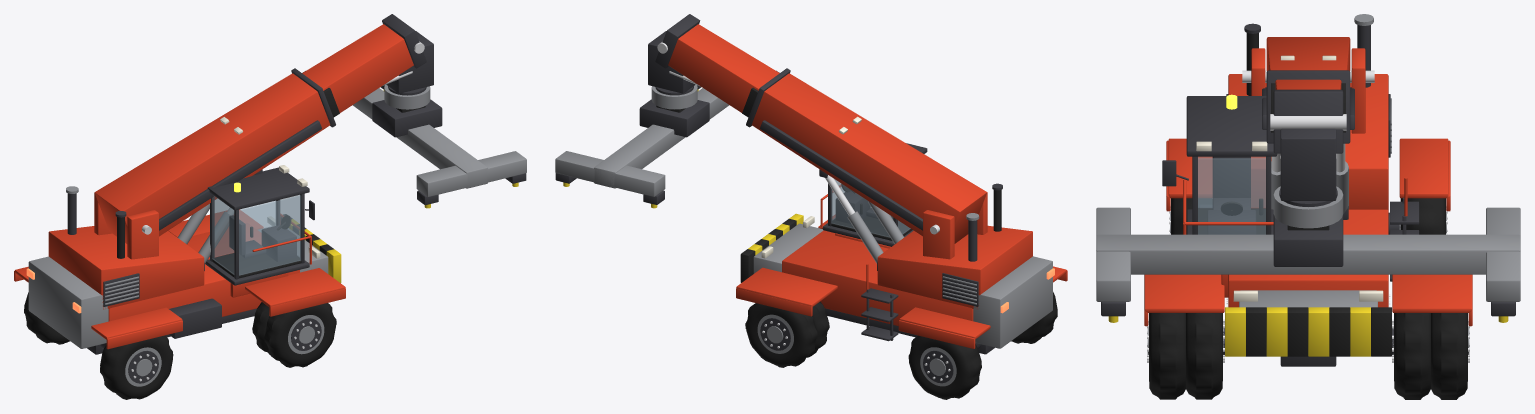
The model's file is reach stacker.fbx.
3 renders of one model, left to right at view 1: azimuth 30°, elevation 25°; view 2: azimuth 150°, elevation 25°; view 3: azimuth 270°, elevation 25°, orthographic. The views are drawn at different scales.
Parts seen in each view (by area): view 1: Kaca_Depan; view 2: Kaca_Depan; view 3: Kaca_Depan.
Part boxes in pixels (x1=…): Kaca_Depan: x1=14, y1=14, x2=526, y2=399; Kaca_Depan: x1=555, y1=14, x2=1067, y2=399; Kaca_Depan: x1=1096, y1=14, x2=1520, y2=399.
Size of the model in its own units: 1018 by 655 by 610.
